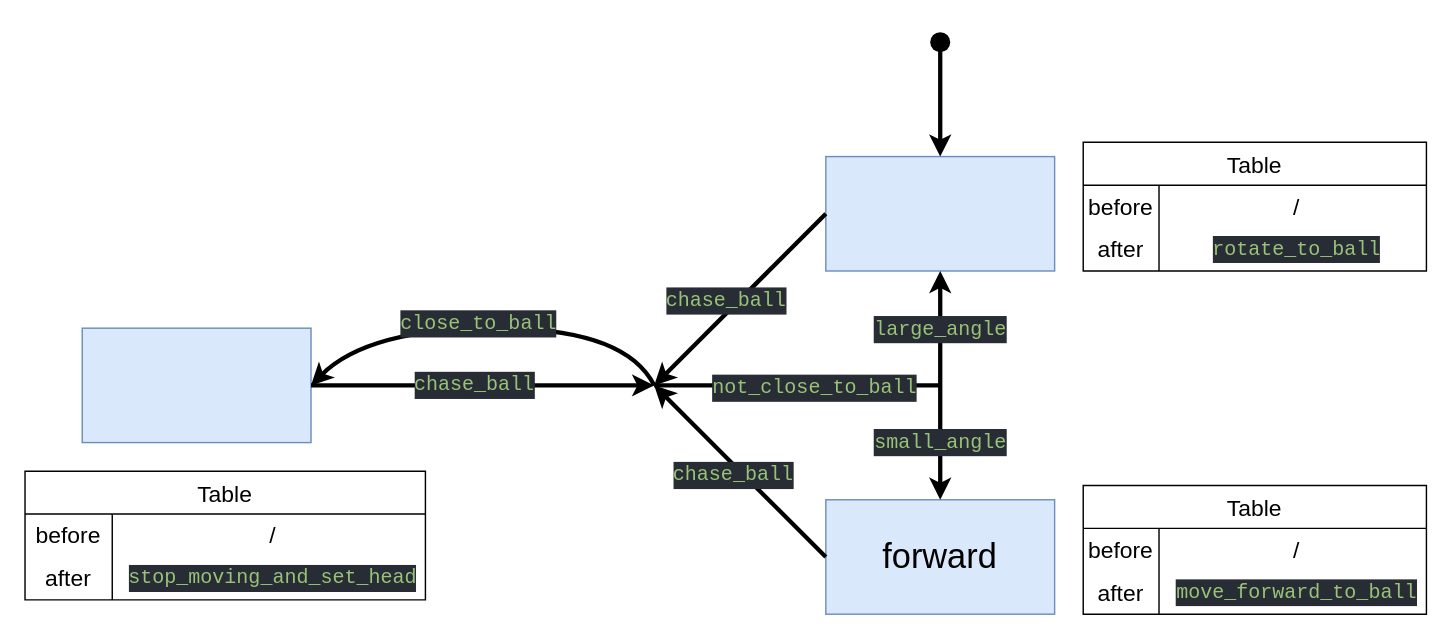
This 1451x639 diagram has some shape labels left out. The shapes that lost their labels are listed below. From the top down, each one's centre as x and y in pixels, then its label:
At (939,213): "rotate".
At (196,385): "arrived".
